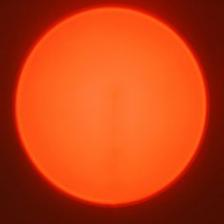orange: (16, 8, 208, 205)
